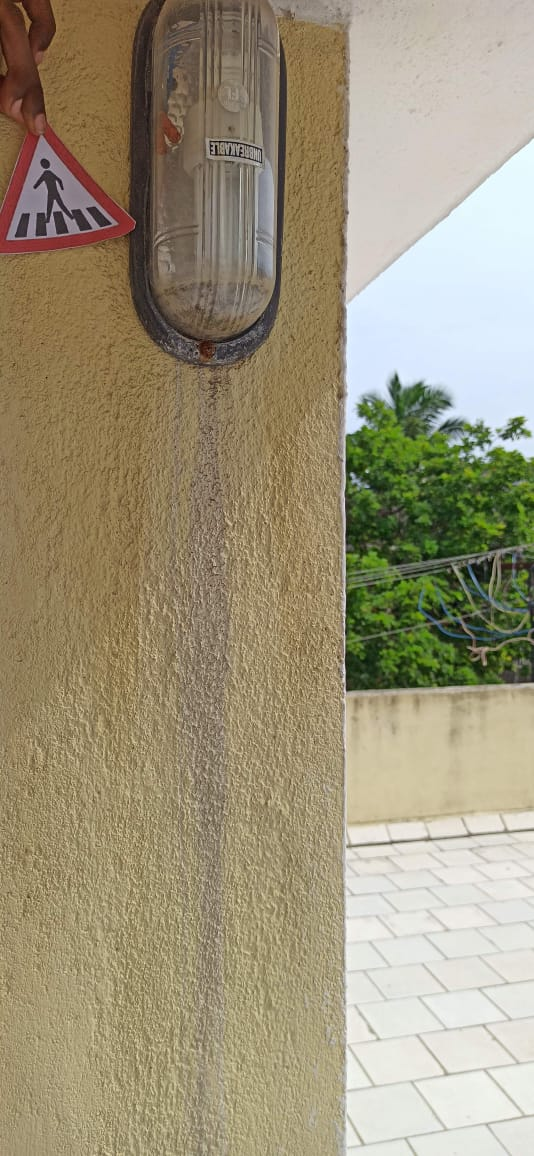PEDESTRIAN CROSSING: (1, 136, 165, 258)
